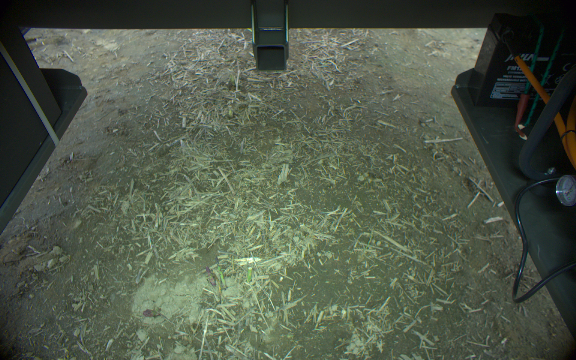aspa: (214, 255, 227, 288), (245, 263, 253, 285)
